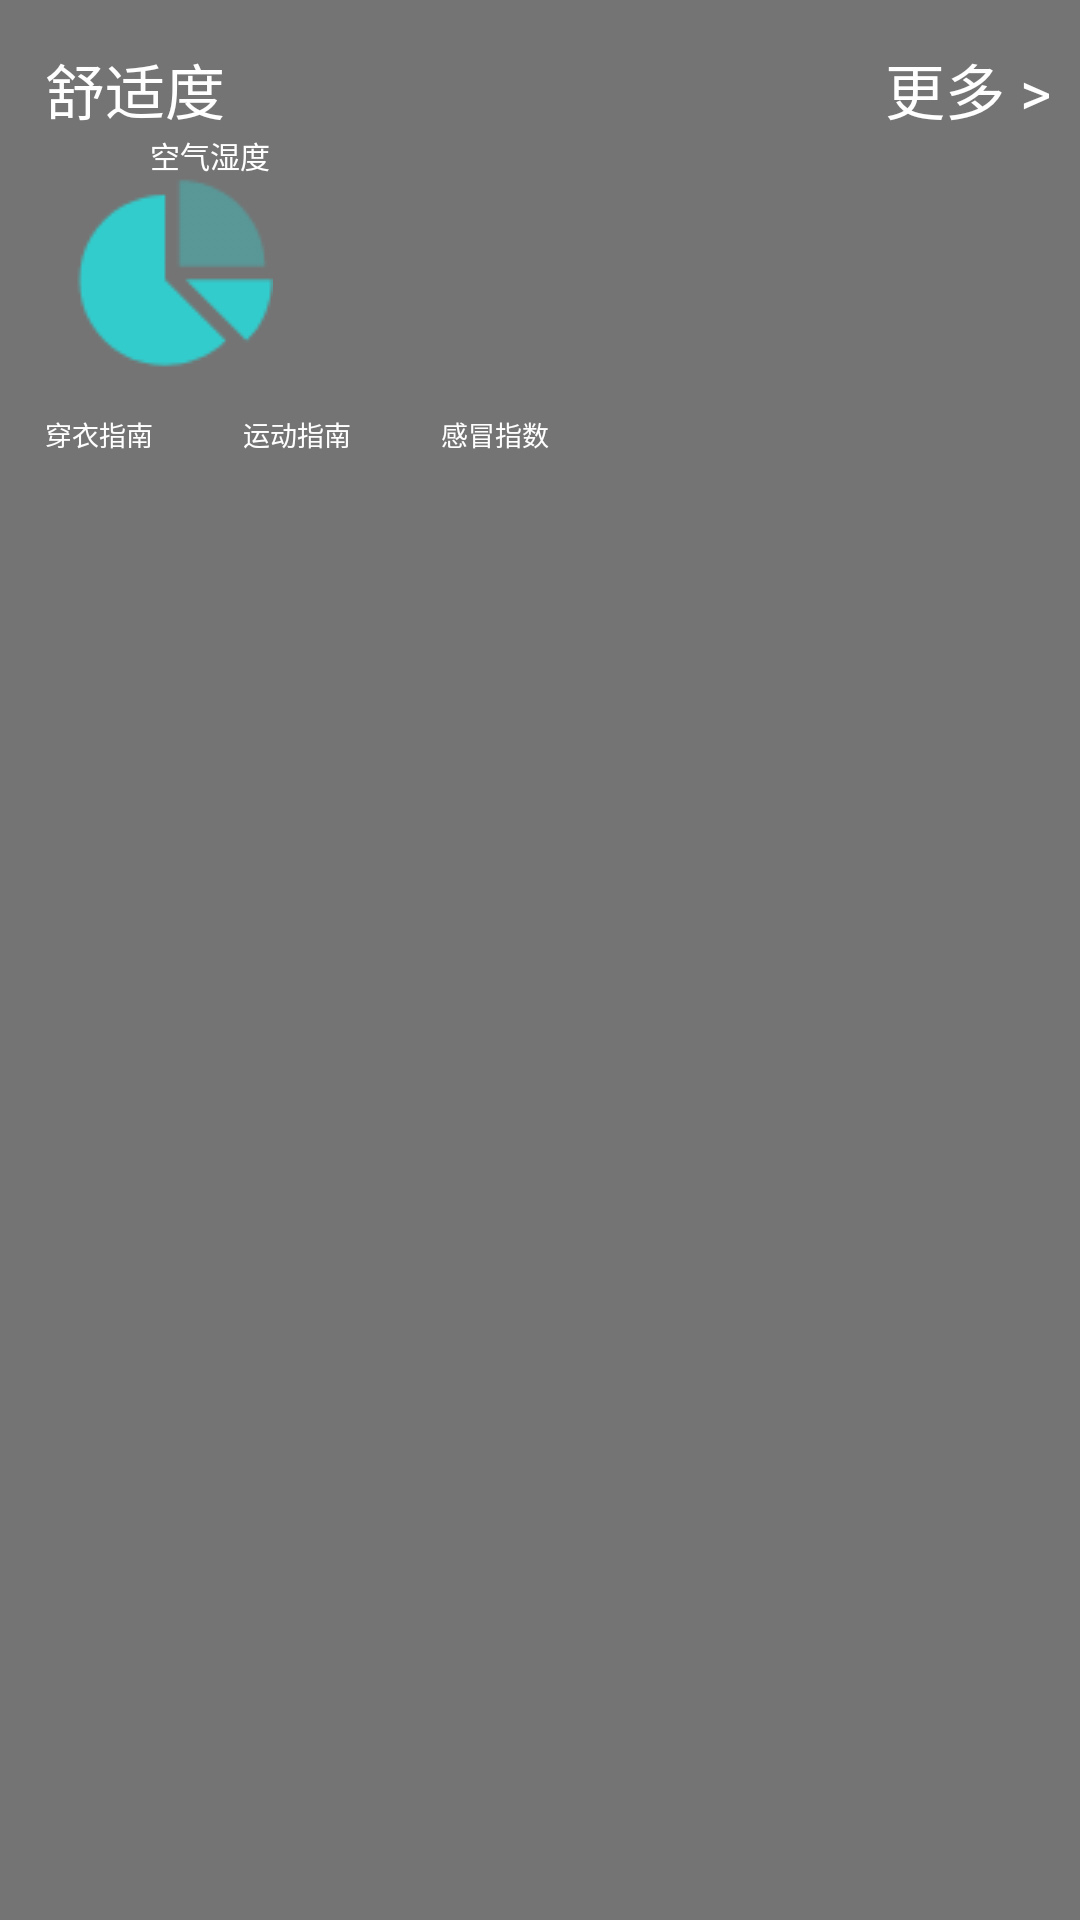

Icon click points for this 1080 x 1920 phone screenshot, format (x=x, y=y):
bing: (x=176, y=273)
